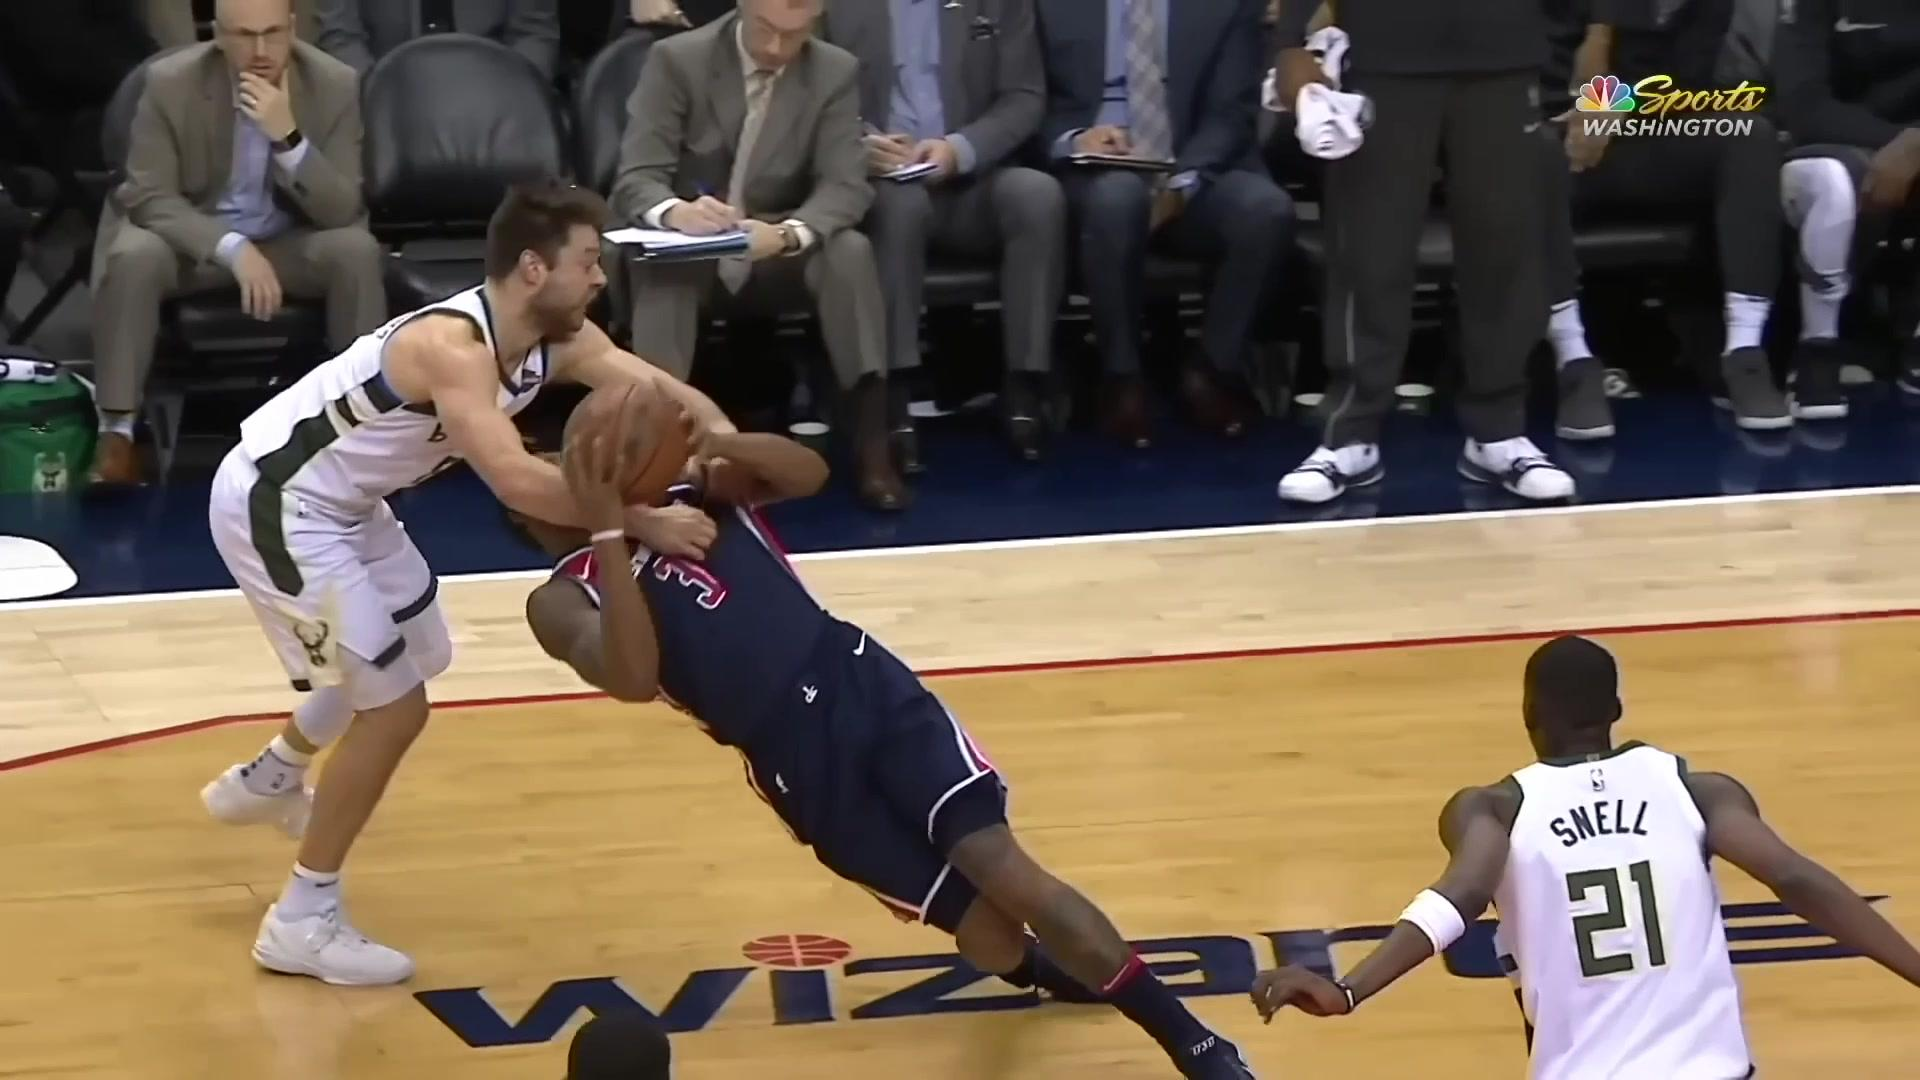foul: (202, 225, 1180, 1046)
